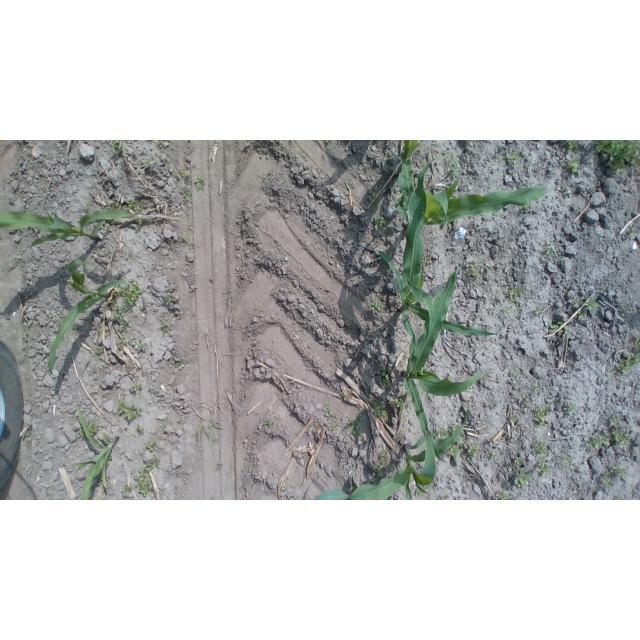Maize: (361, 160, 503, 356), (390, 266, 494, 471), (392, 140, 551, 236), (306, 411, 474, 500), (45, 259, 126, 381), (1, 195, 138, 249), (66, 398, 122, 500)
Weeds: (594, 140, 640, 174), (194, 416, 224, 446), (115, 282, 145, 311), (571, 297, 597, 323), (137, 457, 163, 478), (117, 402, 144, 422), (111, 307, 131, 333), (623, 338, 640, 368), (586, 429, 610, 450), (132, 478, 155, 499), (373, 451, 392, 476), (531, 405, 551, 428), (76, 419, 101, 437), (371, 399, 390, 422), (369, 214, 389, 235), (513, 470, 535, 489), (608, 426, 631, 444), (322, 406, 338, 431), (534, 459, 555, 478), (347, 422, 366, 442), (378, 365, 395, 387), (611, 358, 629, 378), (528, 438, 548, 455), (504, 151, 524, 168), (466, 441, 483, 460), (552, 141, 576, 154), (160, 293, 182, 307), (506, 284, 526, 299), (446, 156, 461, 176), (466, 263, 482, 281), (158, 320, 172, 340), (178, 185, 195, 201), (437, 425, 455, 440), (366, 189, 384, 204), (143, 440, 162, 454), (134, 338, 151, 353), (128, 379, 145, 394), (597, 471, 615, 485), (391, 396, 407, 411), (550, 322, 568, 335), (447, 443, 463, 457), (565, 157, 579, 173), (493, 487, 511, 499), (564, 402, 579, 416), (110, 142, 129, 153), (510, 458, 528, 469), (113, 336, 128, 349), (119, 483, 132, 498), (370, 301, 384, 314), (196, 175, 209, 189), (178, 169, 191, 183), (613, 464, 625, 479), (540, 242, 552, 256), (607, 412, 621, 424), (93, 346, 107, 358), (487, 449, 499, 462), (132, 424, 145, 436), (129, 200, 143, 211), (510, 370, 519, 385), (530, 384, 542, 395), (175, 359, 186, 371), (619, 306, 630, 318), (262, 418, 275, 428), (565, 454, 575, 466), (521, 203, 533, 213), (142, 160, 156, 168), (107, 200, 118, 210), (509, 413, 518, 425), (180, 230, 188, 243), (521, 395, 531, 405), (136, 222, 147, 231), (438, 493, 452, 500), (535, 309, 548, 316), (340, 390, 349, 400), (556, 455, 564, 466), (457, 433, 464, 445)
